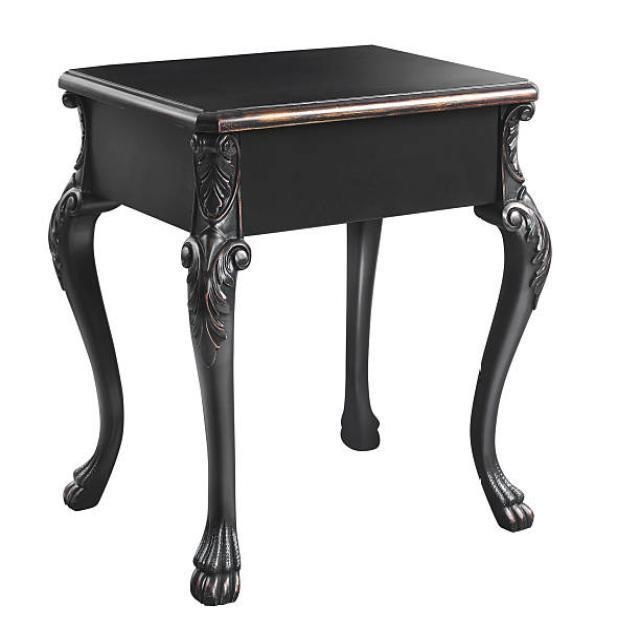table: (47, 42, 552, 605)
